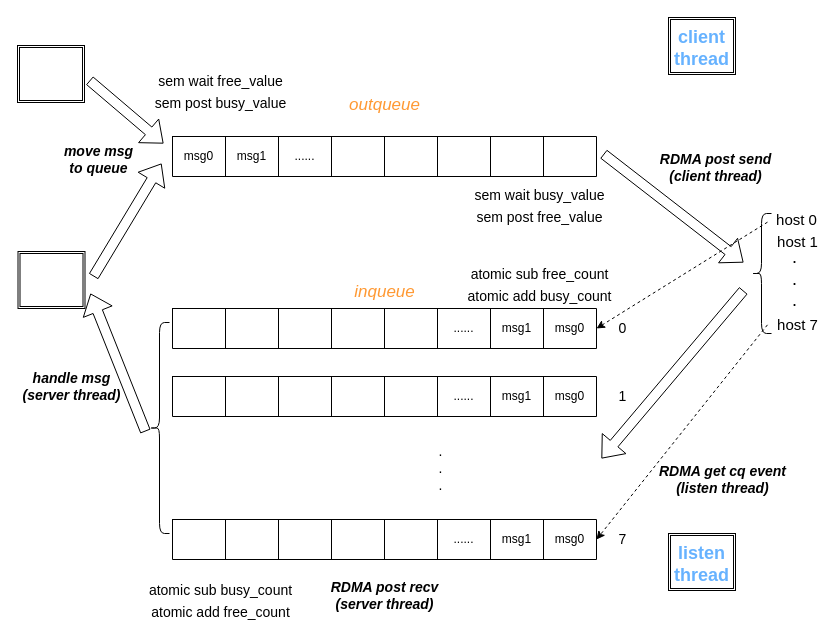
Image size: 840x642. Some labels were removed from this diagram. Each missing label, with the centre of its shape:
"main thread" belongs at (x=50, y=73).
"server thread" belongs at (x=51, y=279).
